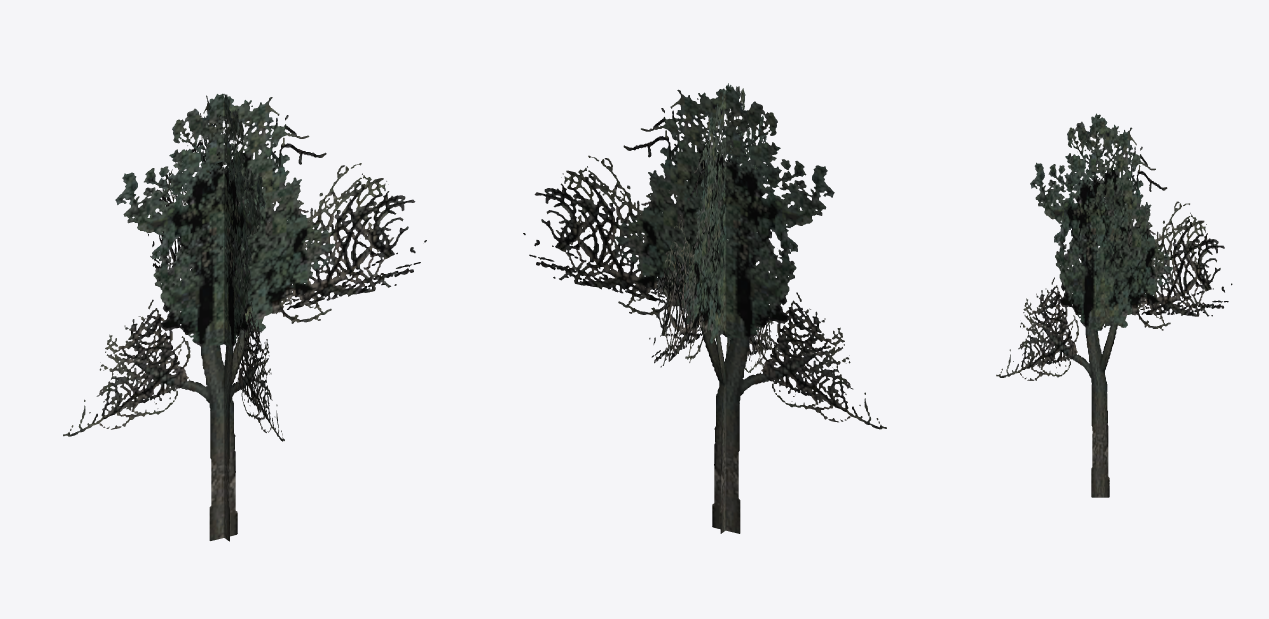
File: ever_torreypinetree_a3_l2.fbx
3 views of the same model, side by side, from view 1: azimuth 30°, elevation 25°; view 2: azimuth 150°, elevation 25°; view 3: azimuth 270°, elevation 25° (orthographic). The views are drawn at different scales.
Visible parts, largest first — view 1: mesh_node; view 2: mesh_node; view 3: mesh_node.
Boxes of the visible parts, box(x1,y1,x2,y2) form: mesh_node: box(63, 93, 426, 541); mesh_node: box(523, 83, 886, 533); mesh_node: box(996, 113, 1232, 497).
Size of the model in its own units: 3.18 by 3.18 by 2.08.
Materials: 1 (1 with a texture image).
